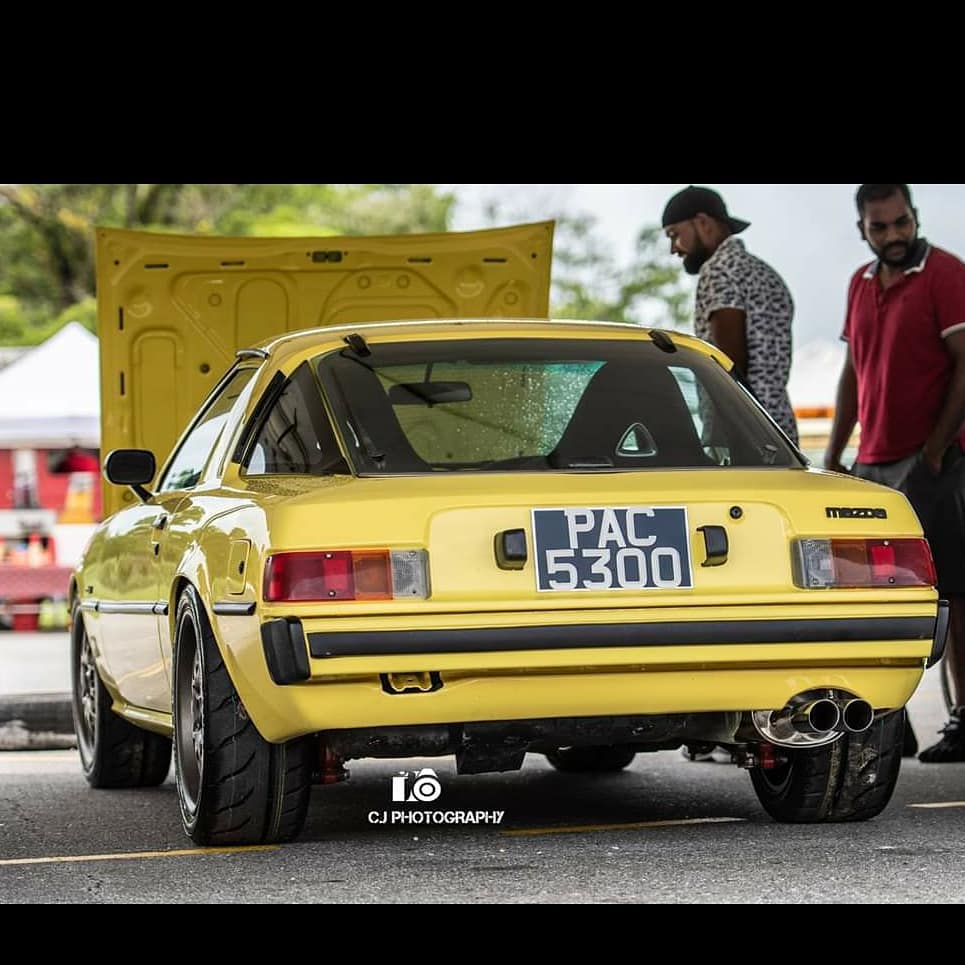License-Plate: (535, 507, 688, 592)
